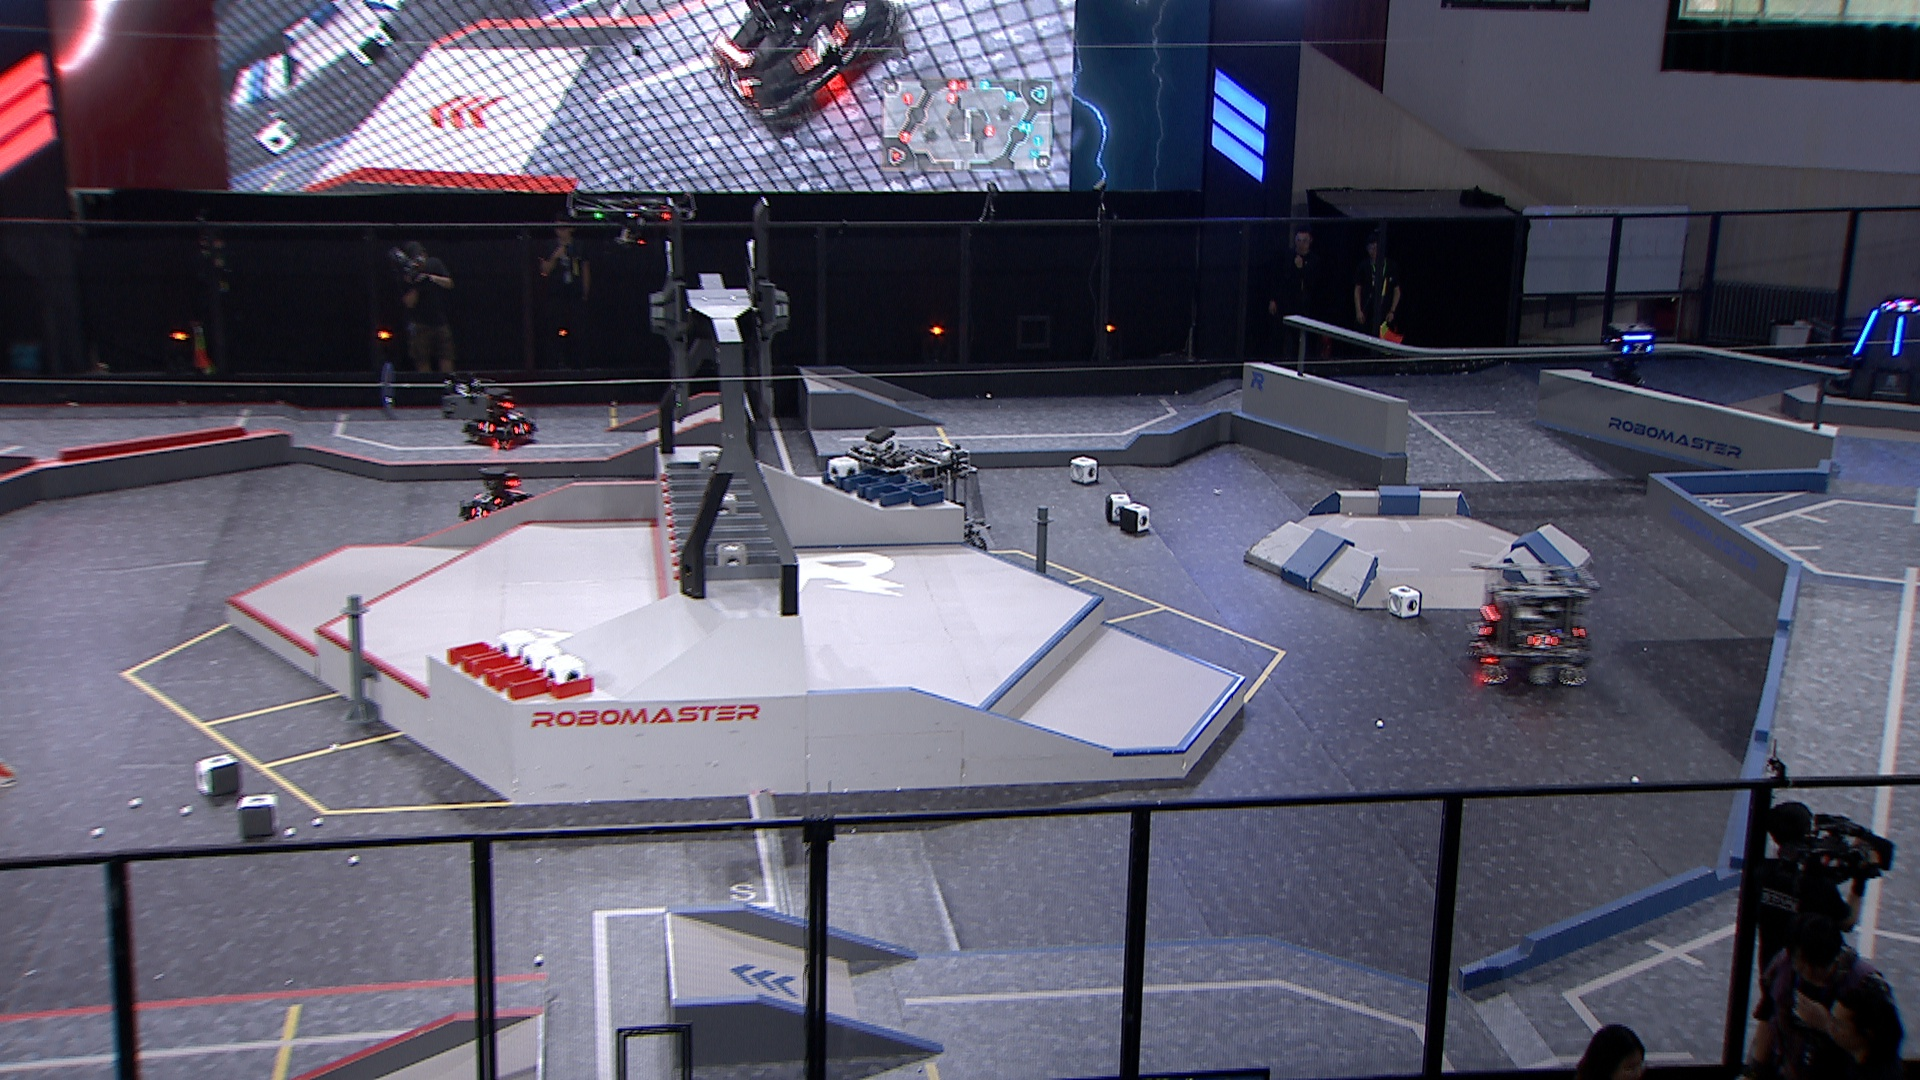armor: (1850, 309, 1880, 356), (1527, 632, 1561, 654), (1621, 342, 1655, 357), (1894, 315, 1905, 357), (473, 491, 500, 506), (1476, 618, 1493, 638), (476, 419, 496, 436), (498, 411, 524, 425), (469, 505, 491, 520), (513, 422, 531, 436)
base: (1825, 297, 1920, 409)
car: (1466, 559, 1598, 695), (851, 439, 989, 564), (458, 465, 537, 527), (460, 389, 538, 448)
ignore: (1887, 301, 1920, 316)
watcher: (1602, 319, 1658, 386)
